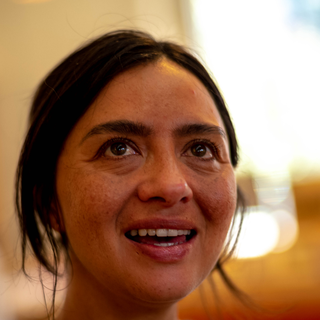eye: (87, 132, 147, 169), (175, 130, 227, 172)
